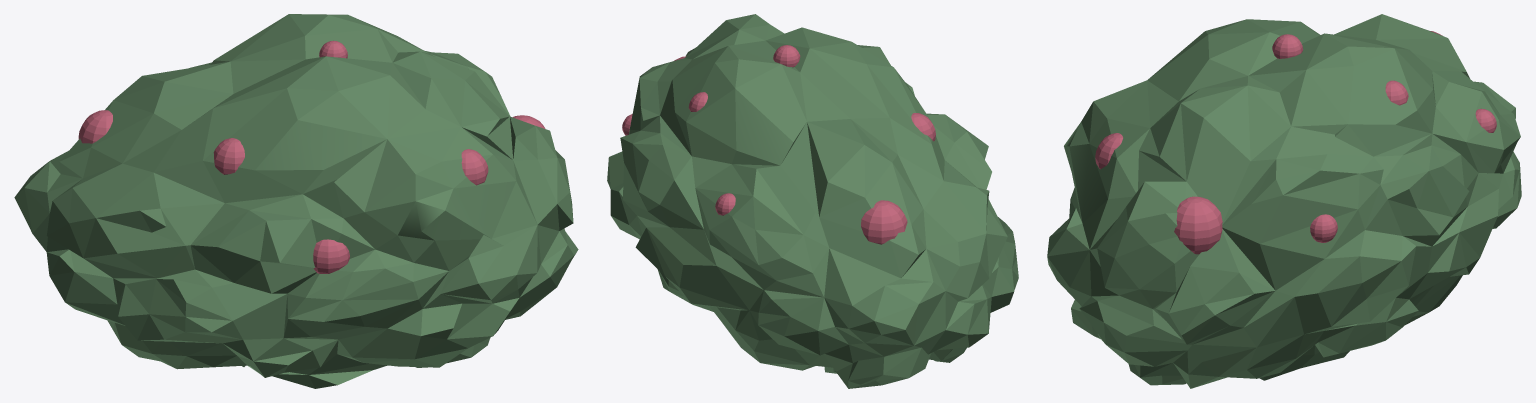
File: shrub1.fbx
3 renders of one model, left to right at view 1: azimuth 30°, elevation 25°; view 2: azimuth 150°, elevation 25°; view 3: azimuth 270°, elevation 25°, orthographic. The views are drawn at different scales.
Parts seen in each view (by area): view 1: pSolid82, pSphere22, pSphere19, pSphere20, pSphere17; view 2: pSolid82, pSphere20, pSphere21, pSphere19, pSphere24; view 3: pSolid82, pSphere25, pSphere23, pSphere21, pSphere17, pSphere18.
Part boxes in pixels (x1=…): pSolid82: x1=14, y1=14, x2=578, y2=388; pSphere22: x1=313, y1=239, x2=349, y2=273; pSphere19: x1=213, y1=138, x2=244, y2=174; pSphere20: x1=78, y1=110, x2=112, y2=143; pSphere17: x1=461, y1=149, x2=488, y2=185; pSolid82: x1=607, y1=14, x2=1018, y2=388; pSphere20: x1=861, y1=200, x2=907, y2=244; pSphere21: x1=773, y1=45, x2=800, y2=67; pSphere19: x1=911, y1=113, x2=935, y2=141; pSphere24: x1=715, y1=193, x2=735, y2=215; pSolid82: x1=1047, y1=14, x2=1521, y2=388; pSphere25: x1=1174, y1=196, x2=1222, y2=254; pSphere23: x1=1310, y1=214, x2=1337, y2=242; pSphere21: x1=1272, y1=34, x2=1303, y2=58; pSphere17: x1=1095, y1=133, x2=1122, y2=169; pSphere18: x1=1385, y1=80, x2=1408, y2=105.
Bounding box in the file's own units: 5.11 × 3.6 × 4.57.
